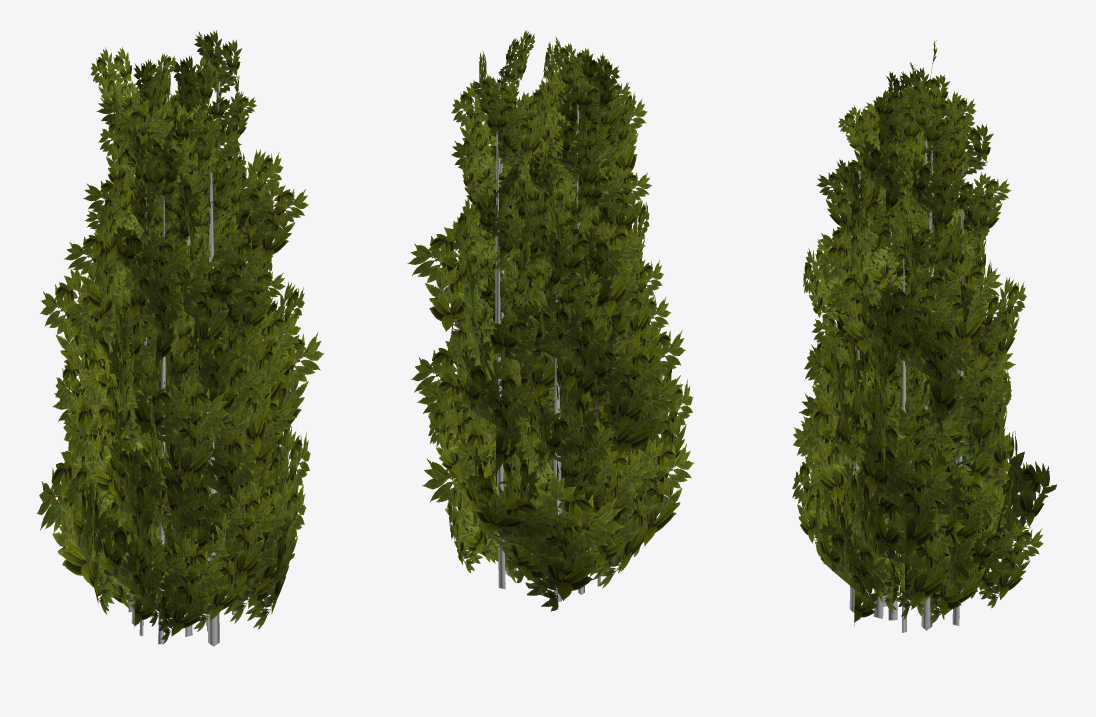
Rendered from Bay_Laurel_Model_0.obj.
3 views of the same model, side by side, from view 1: azimuth 30°, elevation 25°; view 2: azimuth 150°, elevation 25°; view 3: azimuth 270°, elevation 25° (orthographic). The views are drawn at different scales.
Visible parts, largest first — view 1: Foliage, Bark; view 2: Foliage, Bark; view 3: Foliage, Bark.
Part boxes in pixels (x1,y1,x2,y2): Foliage: (37, 30, 324, 643); Bark: (127, 81, 236, 646); Foliage: (407, 30, 694, 611); Bark: (495, 82, 608, 602); Foliage: (792, 40, 1056, 625); Bark: (849, 132, 963, 632).
Size of the model in its own units: 1.87 by 4 by 1.83.
